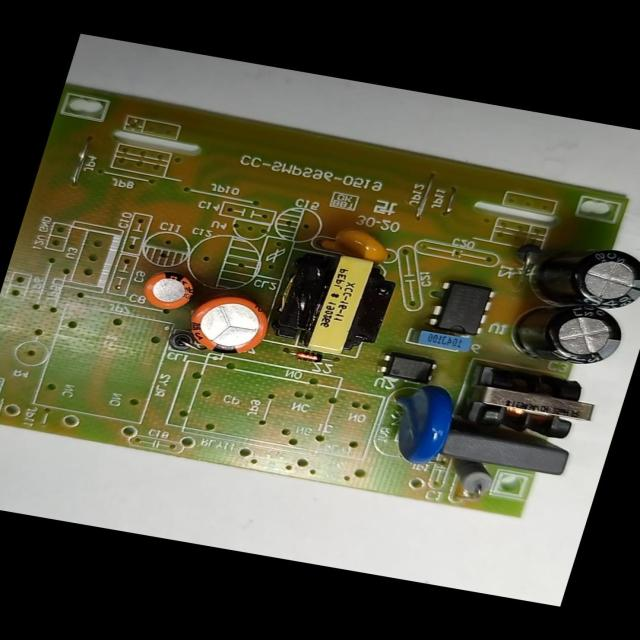Cap1: (175, 290, 278, 362)
Cap2: (136, 269, 199, 310)
Cap3: (505, 296, 627, 372)
Cap4: (530, 239, 640, 316)
MOSFET: (428, 280, 498, 335)
Mov: (376, 378, 460, 473)
Resistor: (440, 458, 500, 502)
Transformer: (268, 246, 404, 363), (452, 359, 605, 446)
